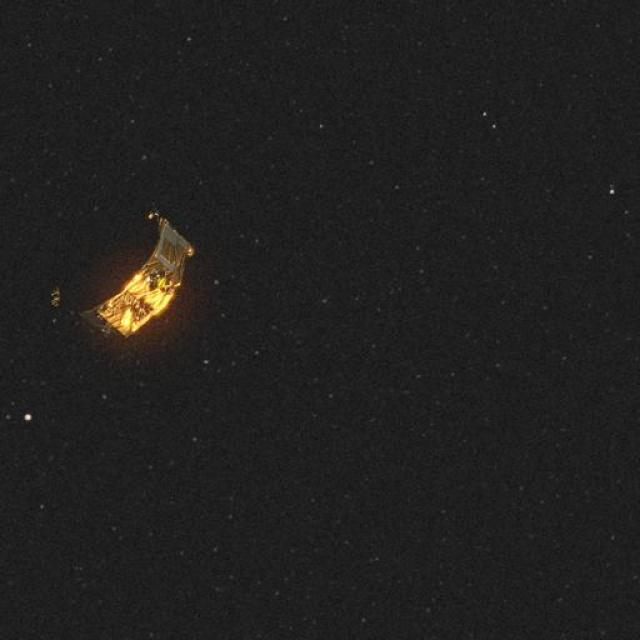lisa_pathfinder: (25, 184, 229, 371)
